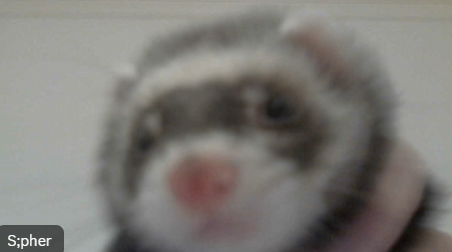Talulah: (93, 8, 400, 252)
